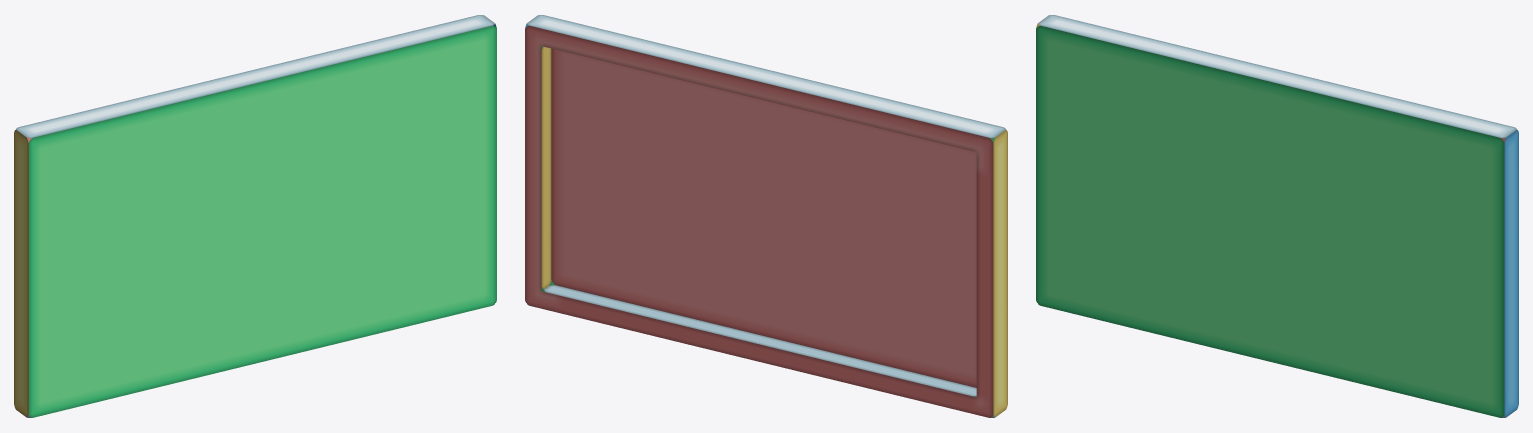
Rendered from monitor.obj.
3 renders of one model, left to right at view 1: azimuth 30°, elevation 25°; view 2: azimuth 150°, elevation 25°; view 3: azimuth 330°, elevation 25°, orthographic.
Parts seen in each view (by area): view 1: body; view 2: body; view 3: body.
Part boxes in pixels (x1=…): body: x1=14, y1=15, x2=496, y2=417; body: x1=525, y1=15, x2=1007, y2=417; body: x1=1036, y1=15, x2=1518, y2=417.
Size of the model in its own units: 1.75 by 1 by 0.0938.
1 material, 1 textured.
